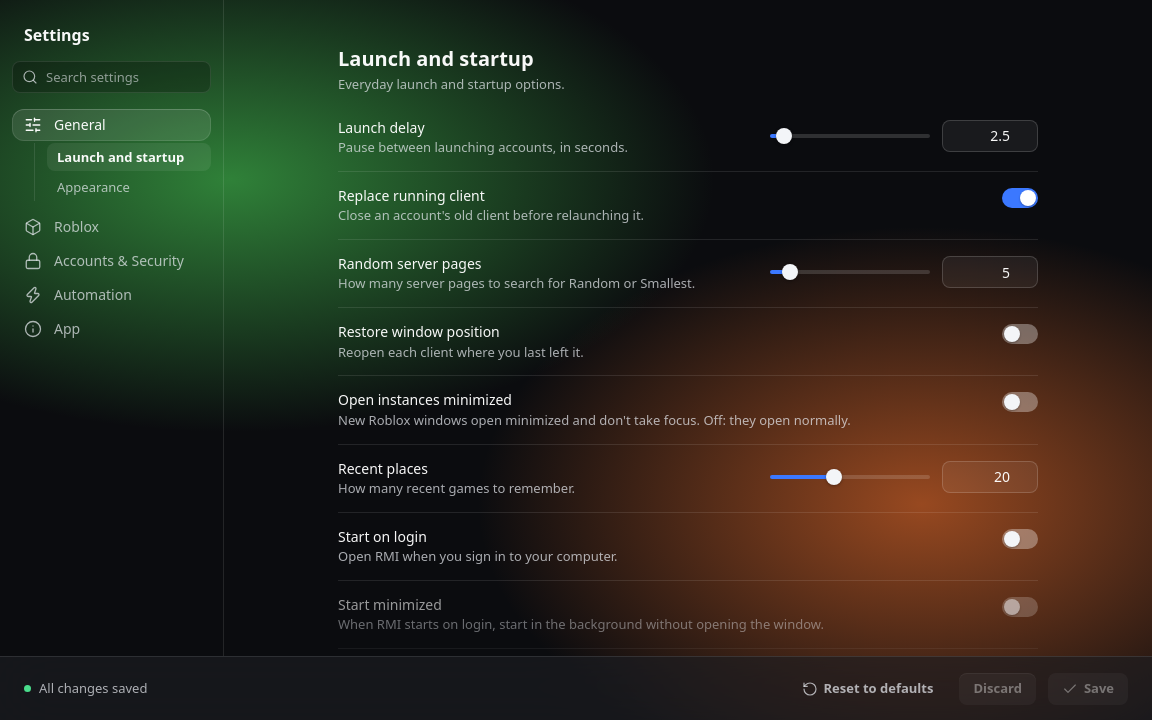
Scenario: a toggle is a draft until Save sends one settings_set
Expected: the button "Save" is disabled, [1048,672,1128,704]
Expected: the text "All changes saved" is shown, [24,679,147,698]
Click the switch named "Replace running client" in the row of "Replace running client". click: x=1020, y=198
box: [1002,188,1038,208]
(page scrolled)
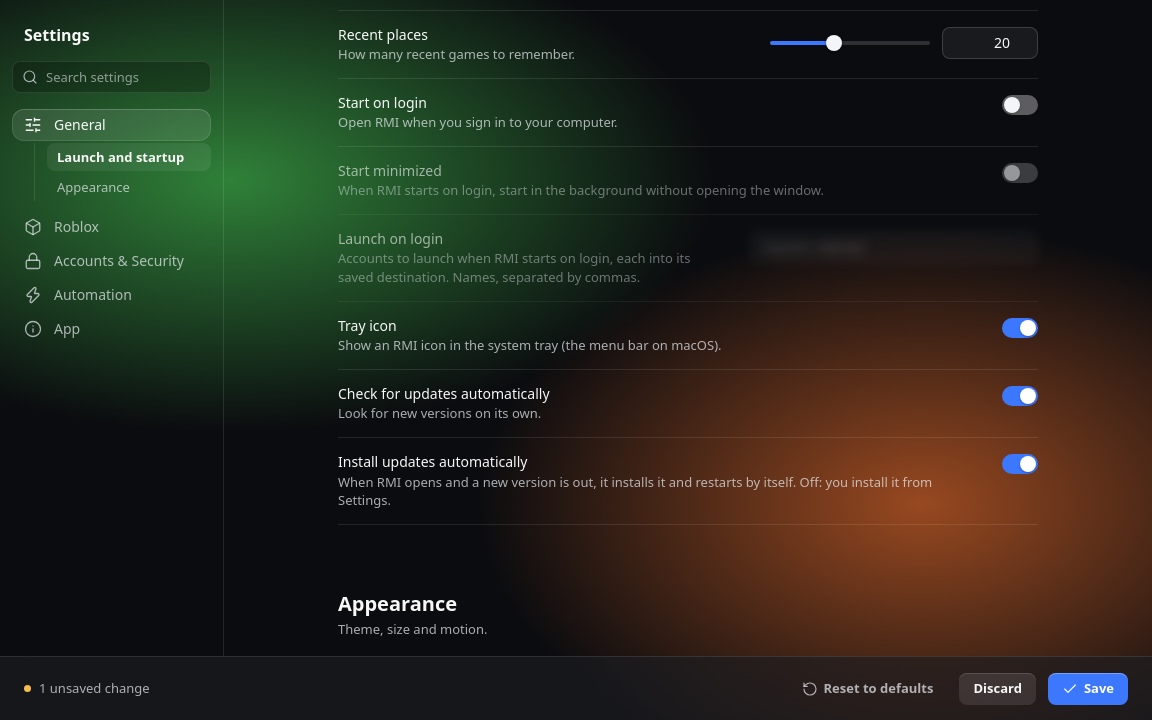
Expected: the text "1 unsaved change" is shown, [24,679,150,698]
Click the switch named "Tray icon" in the row of "Tray icon". click: x=1020, y=328
box: [1002,318,1038,338]
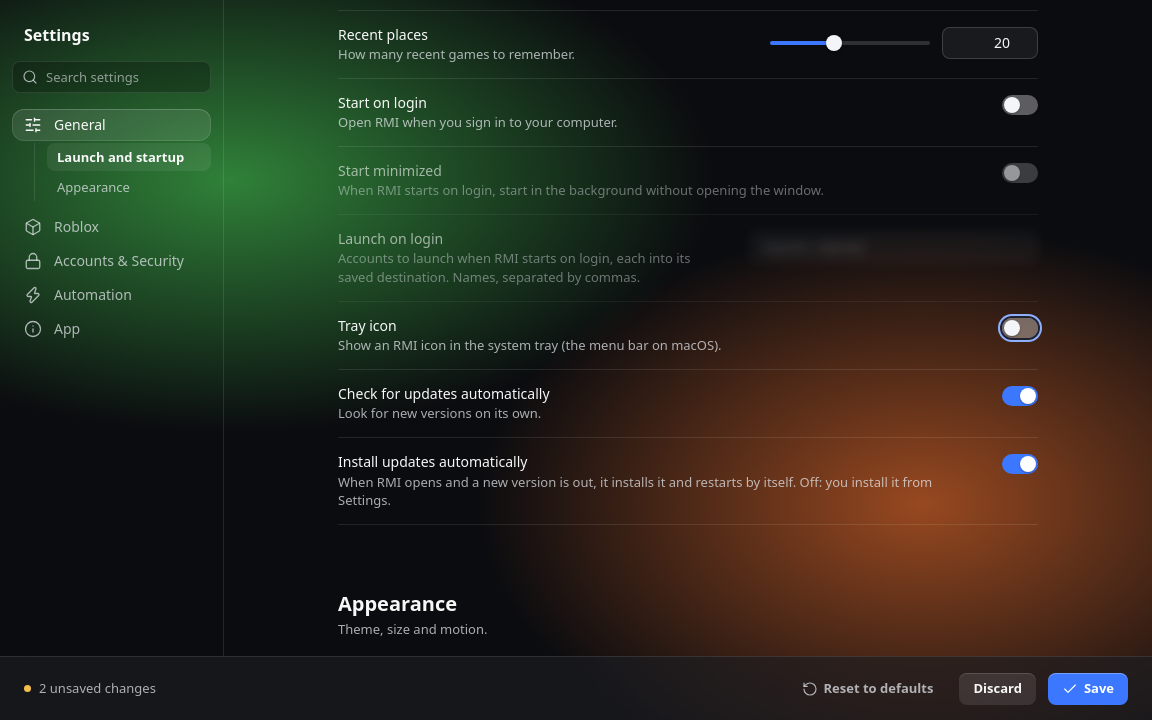
Click the button "Save". click: x=1088, y=688
box: [1048,672,1128,704]
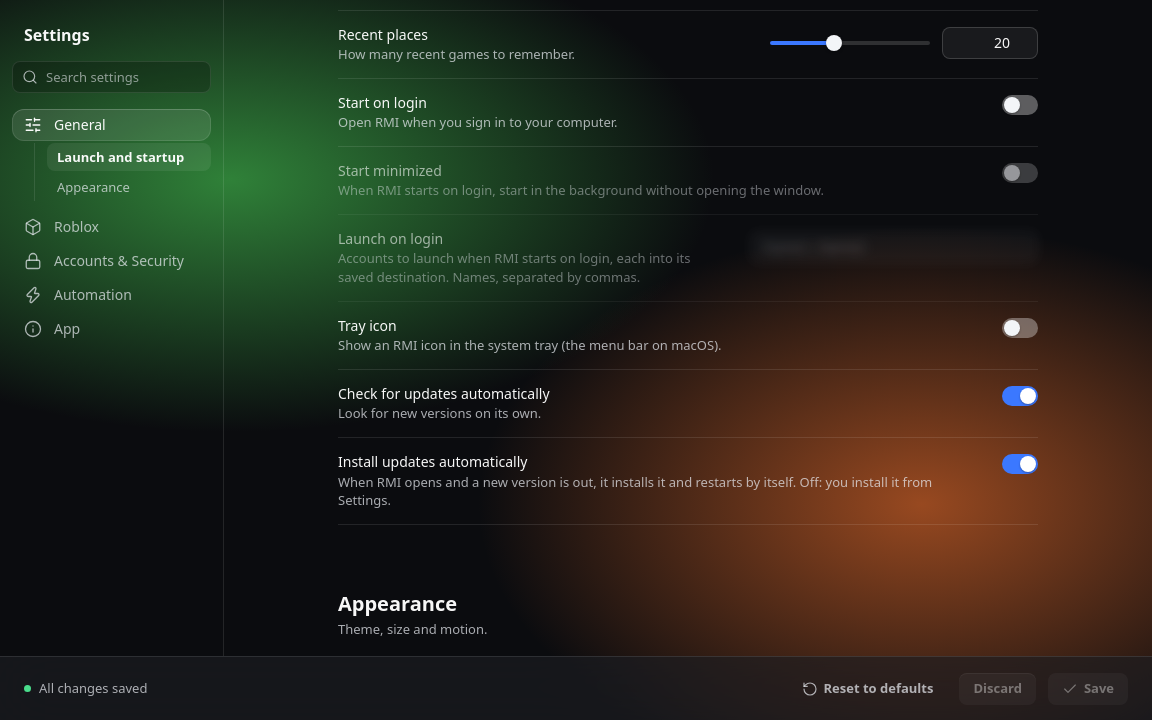
Expected: the text "All changes saved" is shown, [24,679,147,698]
